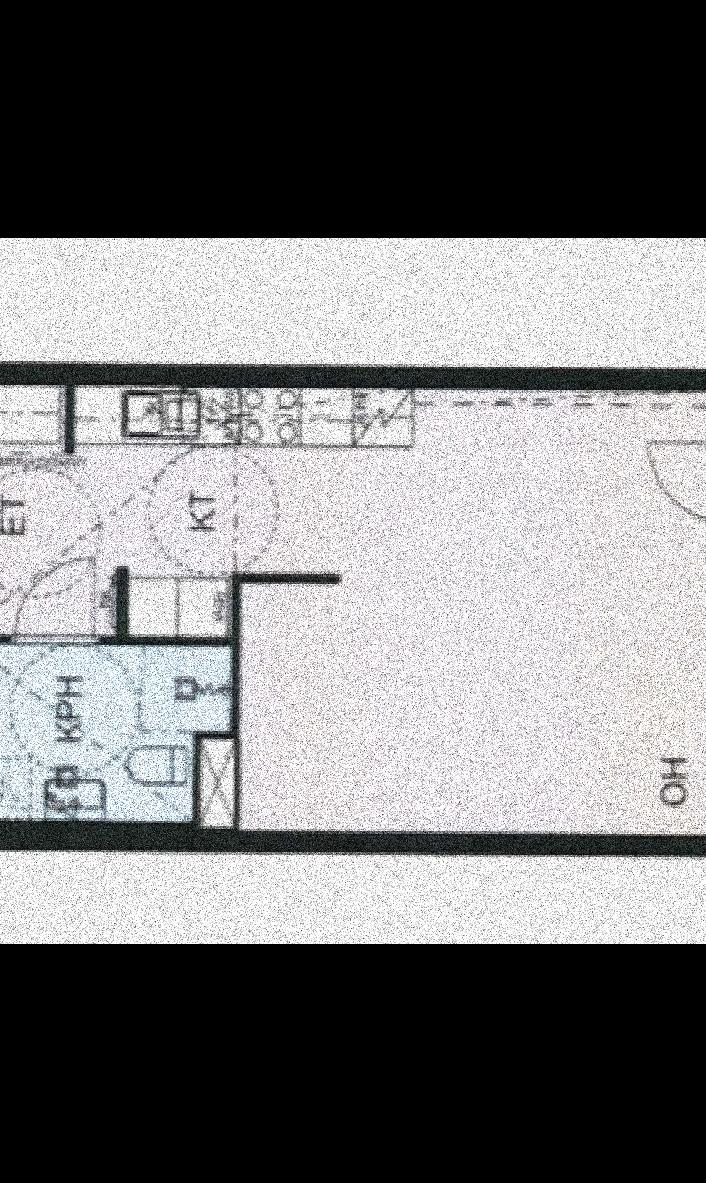door: (0, 550, 105, 643), (647, 430, 706, 521)
zone: (241, 390, 706, 828), (0, 372, 247, 635), (0, 642, 235, 817)
